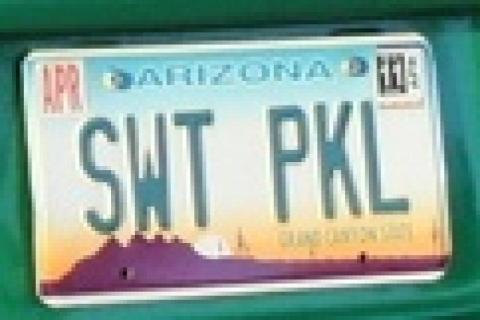LicensePlate: (7, 29, 462, 311)
